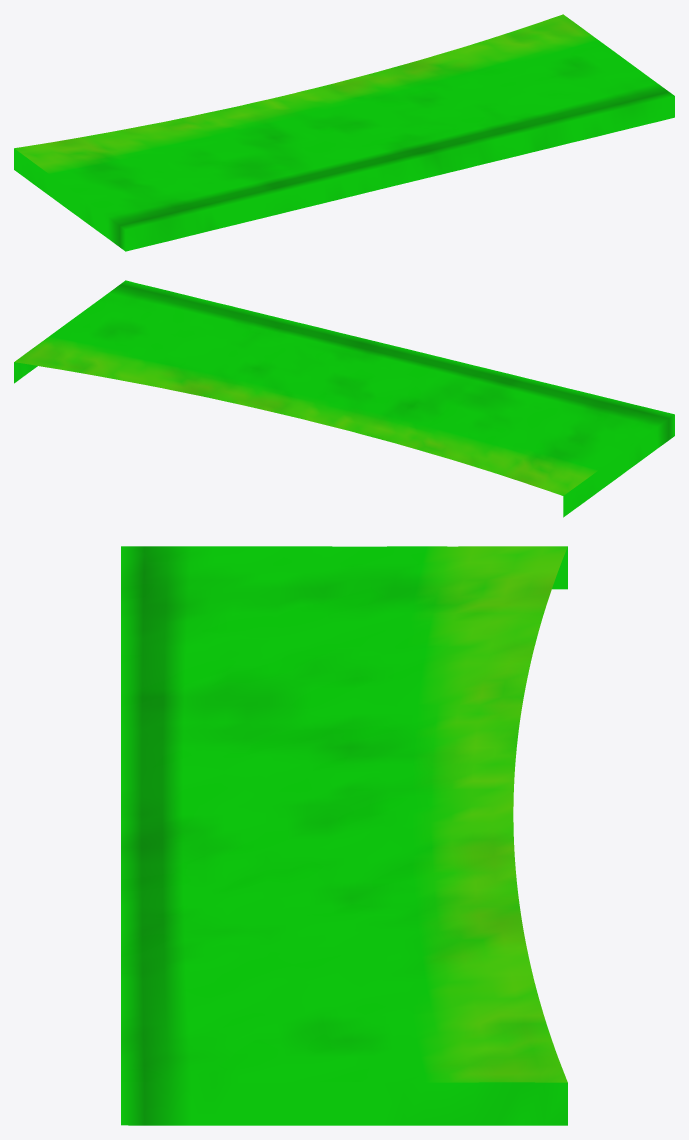
The model's file is arena_ash_tread.glb.
The picture shows the model from 3 angles, top to bottom: view 1: azimuth 30°, elevation 25°; view 2: azimuth 150°, elevation 25°; view 3: azimuth 270°, elevation 25°; orthographic projection. The views are drawn at different scales.
Parts seen in each view (by area): view 1: arena_ash_tread; view 2: arena_ash_tread; view 3: arena_ash_tread.
Part boxes in pixels (box(x1,y1,x2,y2)): arena_ash_tread: box(14, 14, 674, 251); arena_ash_tread: box(14, 280, 674, 517); arena_ash_tread: box(121, 546, 567, 1125).
Size of what is drawn, in the model's own units: 32 by 1.21 by 11.27.
